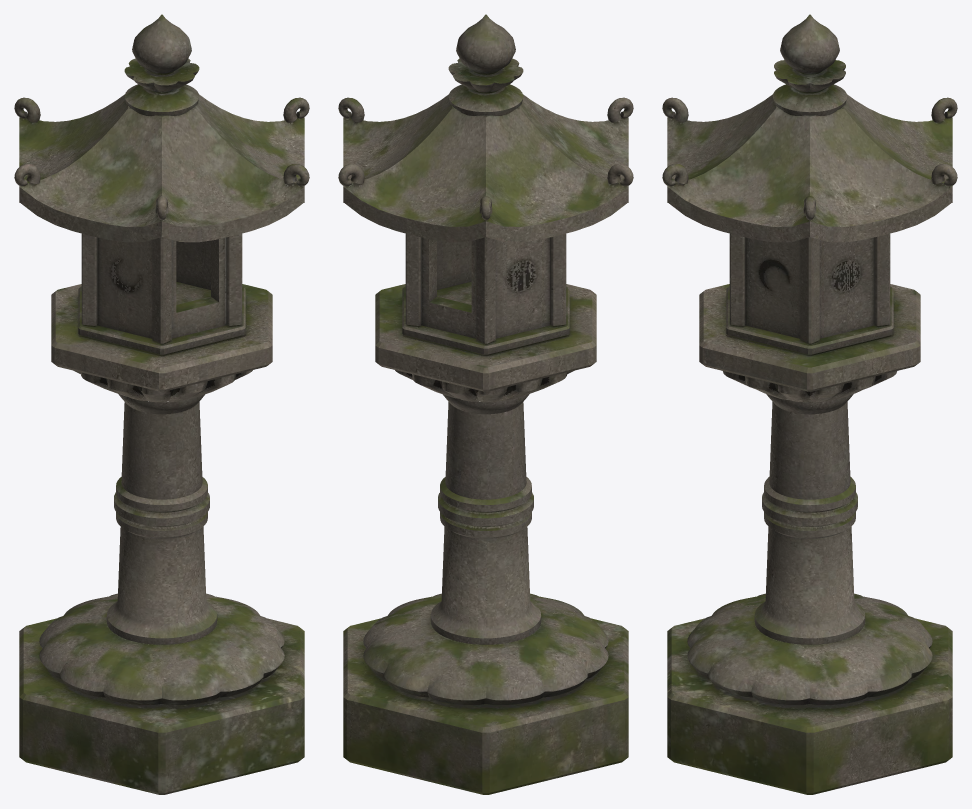
Rendered from shrine-lantern.glb.
3 views of the same model, side by side, from view 1: azimuth 30°, elevation 25°; view 2: azimuth 150°, elevation 25°; view 3: azimuth 270°, elevation 25° (orthographic).
Parts seen in each view (by area): view 1: lod0; view 2: lod0; view 3: lod0.
Boxes of the visible parts, <box> form: lod0: <box>14,14,309,794</box>; lod0: <box>338,14,633,794</box>; lod0: <box>662,14,957,794</box>.
Size of what is drawn, in the model's own units: 0.9524 by 2.21 by 0.828.
1 material, 1 textured.
